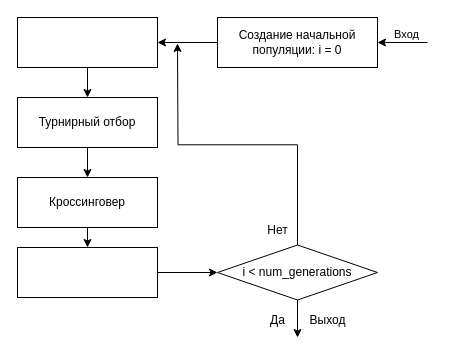
Image size: 453x363. Some labels were removed from this diagram. Each missing label, with the centre of its shape:
Вычисление приспособленности: pixel 87 42
Мутация: pixel 87 272
